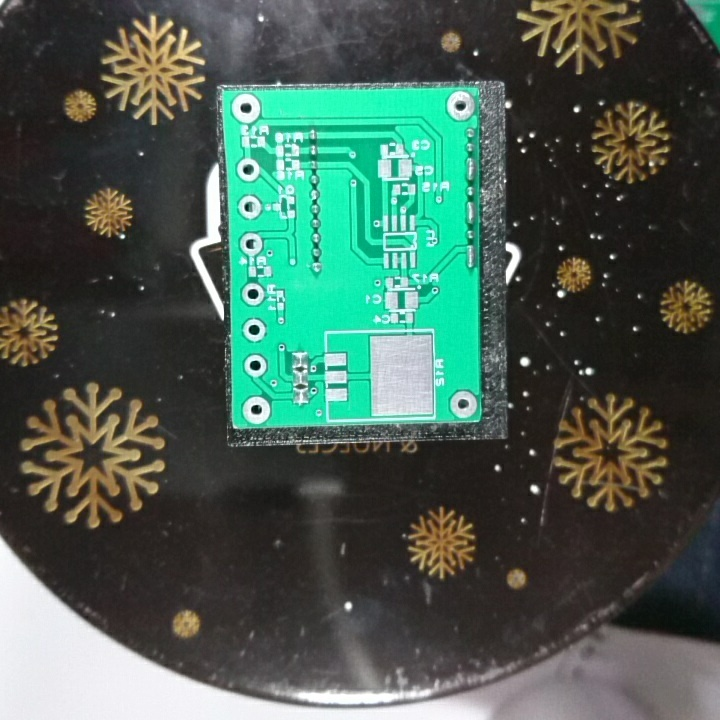F: (228, 91, 263, 125), (444, 89, 477, 122), (448, 388, 480, 421), (241, 394, 273, 425), (235, 192, 263, 223), (241, 352, 271, 379), (234, 155, 262, 183), (240, 317, 269, 343), (240, 281, 267, 308), (237, 230, 263, 258)
P: (464, 244, 479, 270), (463, 156, 477, 183), (464, 200, 477, 226)
